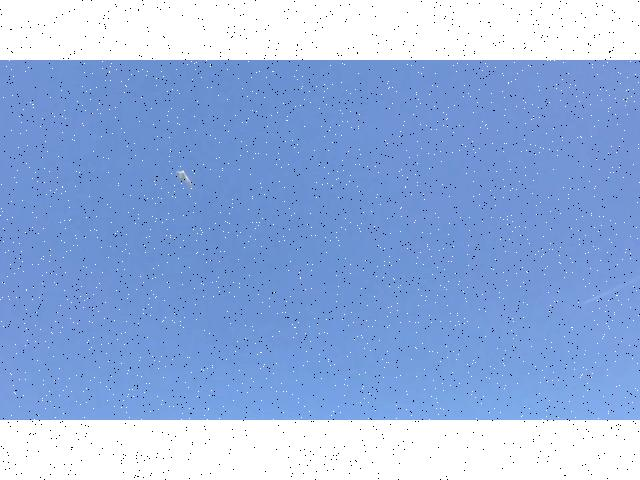Anti-Drone: (158, 163, 202, 190)
